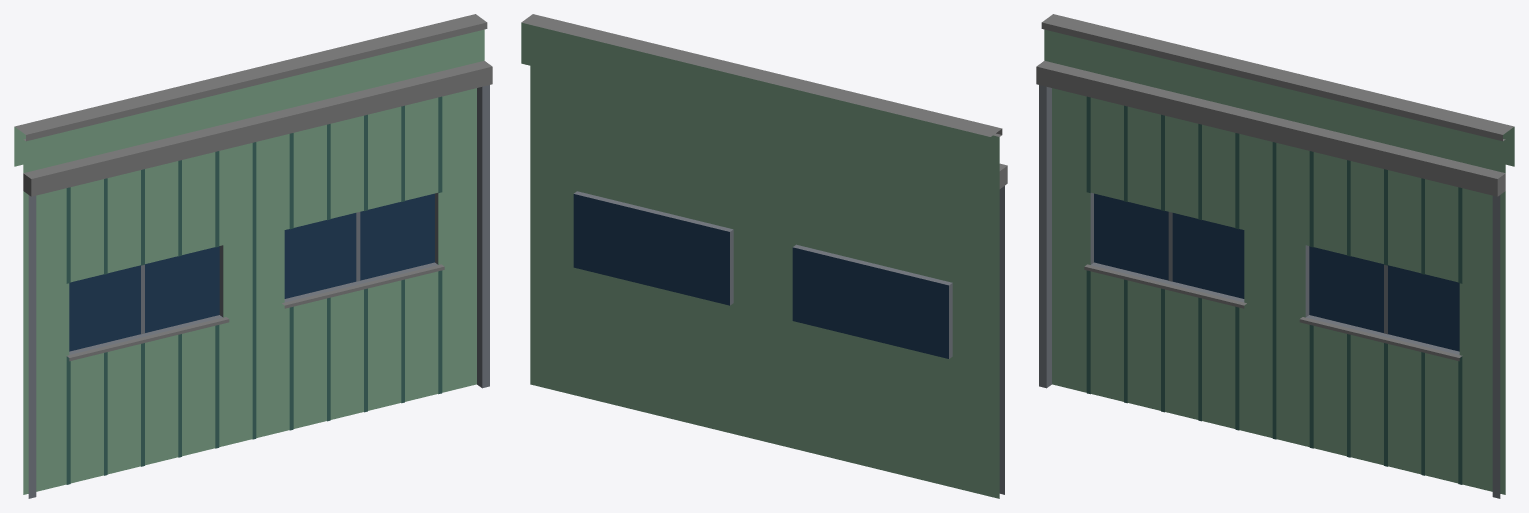
Rendered from top-w1.fbx.
The picture shows the model from 3 angles, left to right: view 1: azimuth 30°, elevation 25°; view 2: azimuth 150°, elevation 25°; view 3: azimuth 330°, elevation 25°; orthographic projection.
Parts seen in each view (by area): view 1: a2013/500/top-w1; view 2: a2013/500/top-w1; view 3: a2013/500/top-w1.
Boxes of the visible parts, bbox=[...] form: a2013/500/top-w1: bbox=[14, 14, 492, 498]; a2013/500/top-w1: bbox=[521, 14, 1007, 498]; a2013/500/top-w1: bbox=[1036, 14, 1514, 498].
Size of the model in its own units: 6 by 4.5 by 0.38.
